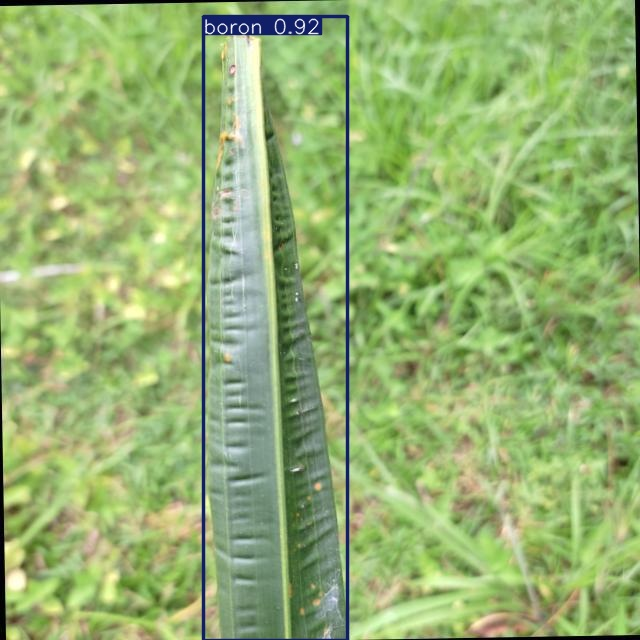nitrogen: (204, 16, 348, 640)
